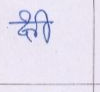i_matra: (37, 8, 52, 43)
